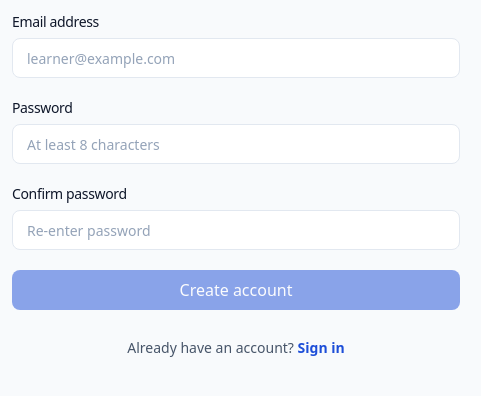
Test case: SignupForm Component › shows client-side validation error when password is shorter than 8 characters
The width and height of the screenshot is (481, 396).
In the field labelled "Email address": (236, 58) x1=12 y1=38 x2=460 y2=78, type "newuser@example.com"
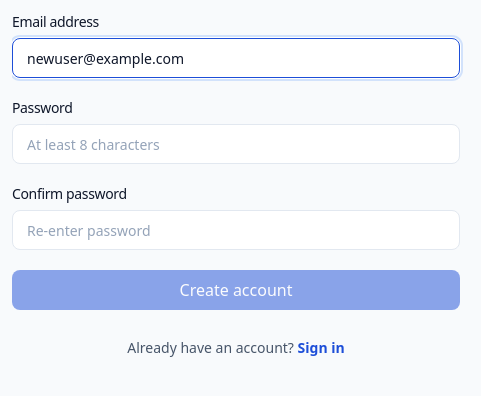
In the password field labelled "Password": (236, 144) x1=12 y1=124 x2=460 y2=164, type "short"
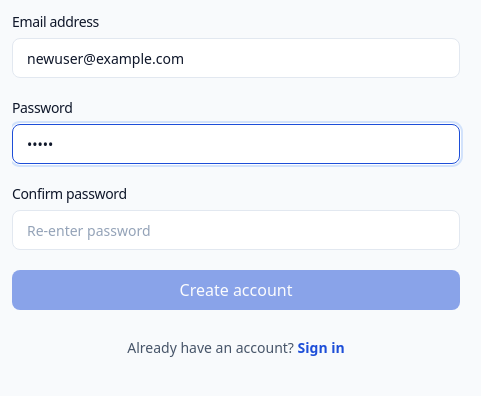
In the password field labelled "Confirm password": (236, 230) x1=12 y1=210 x2=460 y2=250, type "short"
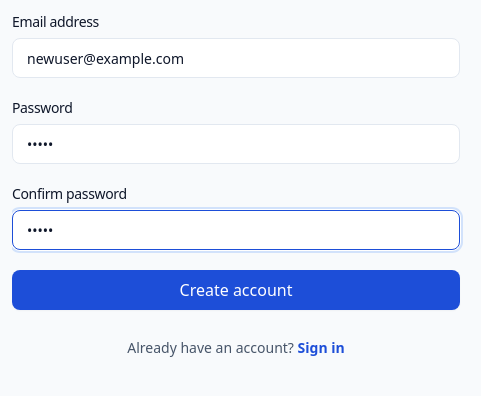
Click the button "Create account": (236, 290) x1=12 y1=270 x2=460 y2=310
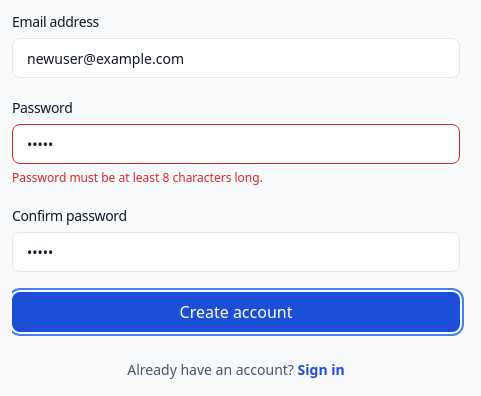
Expected: the text "Password must be at least 8 characters long." is shown, x1=12 y1=169 x2=263 y2=186
